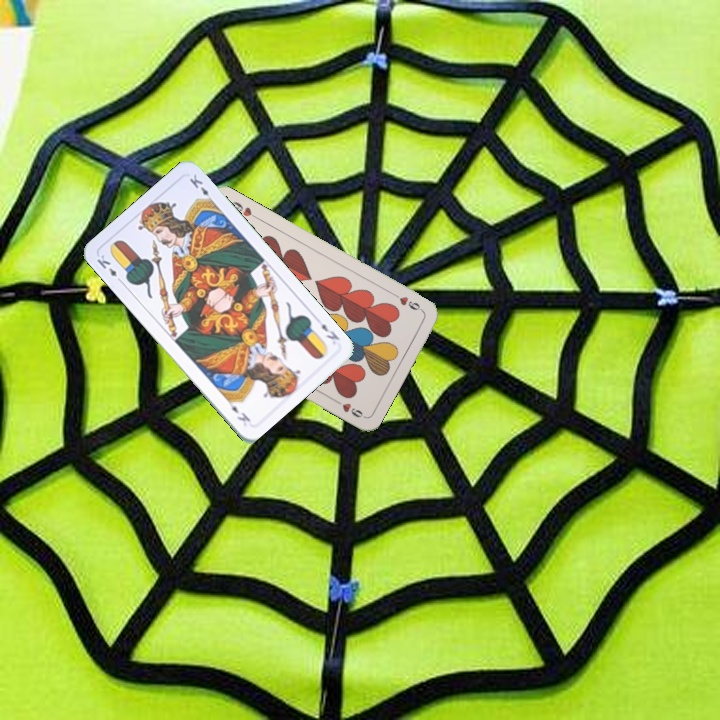EK: (93, 250, 126, 286), (317, 319, 342, 343)
H9: (388, 289, 425, 314)
